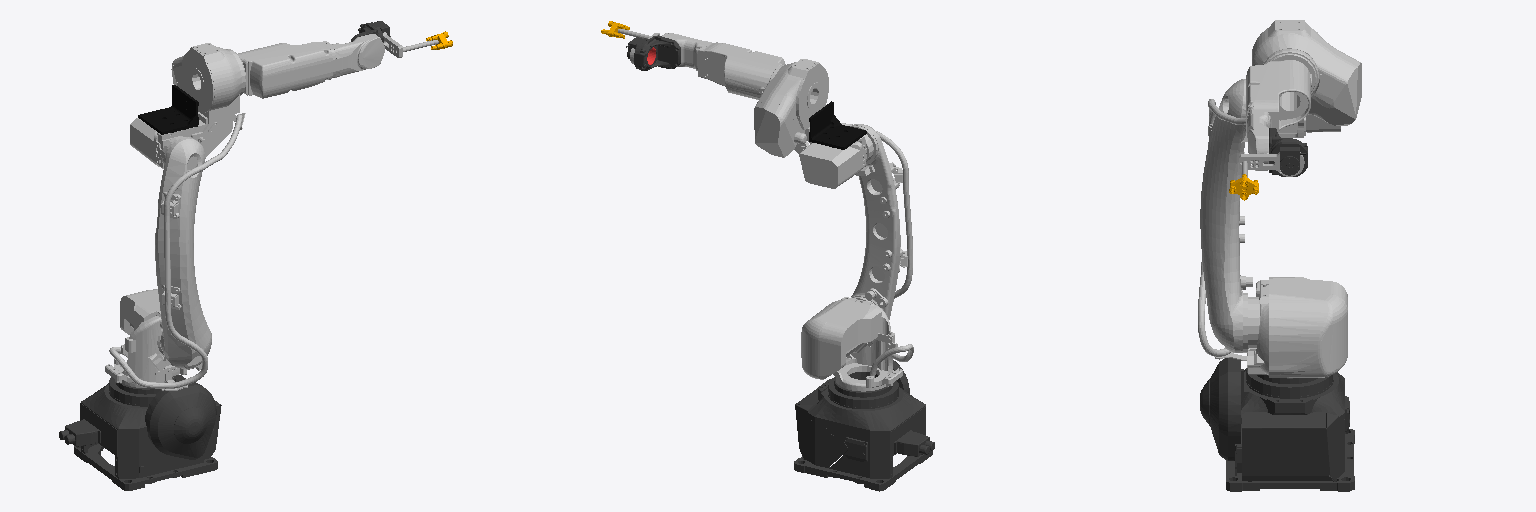
robot.urdf — fanuc_m16ib20:
<?xml version="1.0" ?>
<!-- =================================================================================== -->
<!-- |    This document was autogenerated by xacro from fanuc_robot.xacro              | -->
<!-- |    EDITING THIS FILE BY HAND IS NOT RECOMMENDED                                 | -->
<!-- =================================================================================== -->
<robot name="fanuc_m16ib20">
  <!-- Link Definitions -->
  <link name="world"/>
  <link name="base"/>
  <link name="base_link">
    <inertial>
        <origin
          xyz="0.0168771383054672 0.169315739028866 0.0412800634081652"
          rpy="0 0 0" />
        <mass
          value="15.2527879055871" />
        <inertia
          ixx="0.240635267432976"
          ixy="0.0100242488168428"
          ixz="-0.0305033975601131"
          iyy="0.271707940140716"
          iyz="-0.00725830289125767"
          izz="0.210184758127924" />
      </inertial>
    <visual>
      <origin rpy="0 0 0" xyz="0 0 0"/>
      <geometry>
        <mesh filename="visual/base_link.stl"/>
      </geometry>
      <material name="">
        <color rgba="0.3 0.3 0.3 1.0"/>
      </material>
    </visual>
    <collision>
      <origin rpy="0 0 0" xyz="0 0 0"/>
      <geometry>
        <mesh filename="collision/base_link.stl"/>
      </geometry>
    </collision>
  </link>
  <link name="link_1">
    <inertial>
      <origin rpy="0 0 0" xyz="0.0726897307131149 0.01726181100338 0.146189542933749"/>
      <mass value="8.58482432876493"/>
      <inertia ixx="0.0773051230689542" ixy="-0.00723379157253982" ixz="-0.000989343165238307" iyy="0.0723962945181877" iyz="-0.00461031639489372" izz="0.0825875841593164"/>
    </inertial>
    <visual>
      <origin rpy="0 0 0" xyz="0 0 0"/>
      <geometry>
        <mesh filename="visual/link_1.stl"/>
      </geometry>
      <material name="">
        <color rgba="0.8 0.8 0.8 1.0"/>
      </material>
    </visual>
    <collision>
      <origin rpy="0 0 0" xyz="0 0 0"/>
      <geometry>
        <mesh filename="collision/link_1.stl"/>
      </geometry>
    </collision>
  </link>
  <link name="link_2">
    <inertial>
      <origin rpy="0 0 0" xyz="-0.0302703665097071 -0.0903873349659628 0.28992958820209"/>
      <mass value="8.2150449017131"/>
      <inertia ixx="0.453073068816237" ixy="-0.00379770698429958" ixz="0.0071807966172984" iyy="0.457047499741872" iyz="-0.00913275289112151" izz="0.0235672287466738"/>
    </inertial>
    <visual>
      <origin rpy="0 0 0" xyz="0 0 0"/>
      <geometry>
        <mesh filename="visual/link_2.stl"/>
      </geometry>
      <material name="">
        <color rgba="0.8 0.8 0.8 1.0"/>
      </material>
    </visual>
    <collision>
      <origin rpy="0 0 0" xyz="0 0 0"/>
      <geometry>
        <mesh filename="collision/link_2.stl"/>
      </geometry>
    </collision>
  </link>
  <link name="link_3">
    <inertial>
      <origin rpy="0 0 0" xyz="0.12723749942066 0.100227995458356 0.109934685293926"/>
      <mass value="9.67618904299885"/>
      <inertia ixx="0.136062842569301" ixy="-0.00510277484528786" ixz="-0.0547361392761174" iyy="0.154610667545871" iyz="0.00260387431850614" izz="0.118176278176851"/>
    </inertial>
    <visual>
      <origin rpy="0 0 0" xyz="0 0 0"/>
      <geometry>
        <mesh filename="visual/link_3.stl"/>
      </geometry>
      <material name="">
        <color rgba="0.8 0.8 0.8 1.0"/>
      </material>
    </visual>
    <collision>
      <origin rpy="0 0 0" xyz="0 0 0"/>
      <geometry>
        <mesh filename="collision/link_3.stl"/>
      </geometry>
    </collision>
  </link>
  <link name="pneumatics">
    <inertial>
      <origin rpy="0 0 0" xyz="0.00110933006746268 -0.0182404642175578 0.0204308326542739"/>
      <mass value="0.303487141008849"/>
      <inertia ixx="0.000727934906520687" ixy="4.58702687909596E-07" ixz="-1.0856626128454E-05" iyy="0.00115096933775526" iyz="0.000166632900798468" izz="0.000754234128728351"/>
    </inertial>
    <visual>
      <origin rpy="0 0 0" xyz="0 0 0"/>
      <geometry>
        <mesh filename="visual/pneumatics.stl"/>
      </geometry>
      <material name="">
        <color rgba="0.10196 0.10196 0.10196 1"/>
      </material>
    </visual>
    <collision>
      <origin rpy="0 0 0" xyz="0 0 0"/>
      <geometry>
        <mesh filename="collision/pneumatics.stl"/>
      </geometry>
    </collision>
  </link>
  <link name="link_4">
    <inertial>
      <origin rpy="0 0 0" xyz="0.188625513593263 -0.0559577978885521 -0.00114940913552486"/>
      <mass value="4.60474836910352"/>
      <inertia ixx="0.0125033244602369" ixy="0.0101346194425775" ixz="-0.000488864344204214" iyy="0.0796306838019067" iyz="-3.96339927860412E-05" izz="0.0823799764969524"/>
    </inertial>
    <visual>
      <origin rpy="0 0 0" xyz="0 0 0"/>
      <geometry>
        <mesh filename="visual/link_4.stl"/>
      </geometry>
      <material name="">
        <color rgba="0.8 0.8 0.8 1.0"/>
      </material>
    </visual>
    <collision>
      <origin rpy="0 0 0" xyz="0 0 0"/>
      <geometry>
        <mesh filename="collision/link_4.stl"/>
      </geometry>
    </collision>
  </link>
  <link name="link_5">
    <inertial>
      <origin rpy="0 0 0" xyz="0.024900358966052 -0.0224006698492462 7.37344001411344E-08"/>
      <mass value="0.367816174627401"/>
      <inertia ixx="0.000671984183699895" ixy="-0.000199206306194321" ixz="1.12002081623748E-09" iyy="0.000692587871424379" iyz="3.53309816391218E-10" izz="0.000710717591297149"/>
    </inertial>
    <visual>
      <origin rpy="0 0 0" xyz="0 0 0"/>
      <geometry>
        <mesh filename="visual/link_5.stl"/>
      </geometry>
      <material name="">
        <color rgba="0.3 0.3 0.3 1.0"/>
      </material>
    </visual>
    <collision>
      <origin rpy="0 0 0" xyz="0 0 0"/>
      <geometry>
        <mesh filename="collision/link_5.stl"/>
      </geometry>
    </collision>
  </link>
  <link name="link_6">
    <inertial>
      <origin rpy="0 0 0" xyz="0.0302639071241406 -3.46944695195361E-17 -2.22044604925031E-16"/>
      <mass value="0.0344052830581641"/>
      <inertia ixx="3.4435938758267E-05" ixy="-2.54557813387769E-20" ixz="4.98349196091915E-21" iyy="2.11531436012608E-05" iyz="4.55280209149186E-21" izz="2.1317868300063E-05"/>
    </inertial>
    <visual>
      <origin rpy="0 0 0" xyz="0 0 0"/>
      <geometry>
        <mesh filename="visual/link_6.stl"/>
      </geometry>
      <material name="">
        <color rgba="1 0.3 0.3 1.0"/>
      </material>
    </visual>
    <collision>
      <origin rpy="0 0 0" xyz="0 0 0"/>
      <geometry>
        <mesh filename="collision/link_6.stl"/>
      </geometry>
    </collision>
  </link>
  <link name="flange"/>


  <link name="force_sensor">
    <visual>
      <origin rpy="0 0 0" xyz="0 0 0"/>
      <geometry>
        <mesh filename="visual/fs_leptrino.stl"/>
      </geometry>
      <material name="">
        <color rgba="0.3 0.3 0.3 1.0"/>
      </material>
    </visual>
    <collision>
      <origin rpy="0 0 0" xyz="0 0 0"/>
      <geometry>
        <mesh filename="collision/fs_leptrino.stl"/>
      </geometry>
    </collision>
  </link>

  <link name="tool"/>

<link name="rod_mount">
      <visual>
        <origin xyz="0 0 0" rpy="0 0 0"/>
        <geometry>
          <mesh filename="visual/rod_mount.stl"/>
        </geometry>
        <material name="">
          <color rgba="0.75 0.75 0.75 1.0" />
        </material>
      </visual>
      <collision>
        <origin xyz="0 0 0" rpy="0 0 0"/>
        <geometry>
          <mesh filename="collision/rod_mount.stl"/>
        </geometry>
      </collision>
    </link>
    <link name="rod">
      <visual>
        <origin xyz="0 0 0" rpy="0 0 0"/>
        <geometry>
          <mesh filename="visual/rod_l150.stl"/>
        </geometry>
        <material name="">
          <color rgba="0.75 0.75 0.75 1.0" />
        </material>
      </visual>
      <collision>
        <origin xyz="0 0 0" rpy="0 0 0"/>
        <geometry>
          <mesh filename="collision/rod_l150.stl"/>
        </geometry>
      </collision>
    </link>
    <link name="pad_mount">
      <visual>
        <origin xyz="0 0 0" rpy="0 0 0"/>
        <geometry>
          <mesh filename="visual/4pads_mount_150mm.stl"/>
        </geometry>
        <material name="">
          <color rgba="1 0.7 0 1.0" />
        </material>
      </visual>
      <collision>
        <origin xyz="0 0 0" rpy="0 0 0"/>
        <geometry>
          <mesh filename="collision/4pads_mount_150mm.stl"/>
        </geometry>
      </collision>
    </link>


  <!-- Joint Definitions -->
  <joint name="world-base_link" type="fixed">
    <origin rpy="0 0 0" xyz="0.000 0.000 -0.450"/>
    <parent link="world"/>
    <child link="base_link"/>
  </joint>
  <joint name="base_link-base" type="fixed">
    <origin rpy="0 0 0" xyz="0.000 0.000 0.450"/>
    <parent link="base_link"/>
    <child link="base"/>
  </joint>
  <joint name="joint_1" type="revolute">
    <origin rpy="0 0 0" xyz="0 0 0.2865"/>
    <parent link="base_link"/>
    <child link="link_1"/>
    <axis xyz="0 0 1"/>
    <limit effort="0" lower="-2.0943951023931953" upper="2.0943951023931953" velocity="4.54"/>
  </joint>
  <joint name="joint_2" type="revolute">
    <origin rpy="0 0 0" xyz="0.075 -0.065 0.1635"/>
    <parent link="link_1"/>
    <child link="link_2"/>
    <axis xyz="0 1 0"/>
    <limit effort="0" lower="-1.2566370614359172" upper="2.0943951023931953" velocity="4.19"/>
  </joint>
  <joint name="joint_3" type="revolute">
    <origin rpy="0 0 0" xyz="0 0 0.64"/>
    <parent link="link_2"/>
    <child link="link_3"/>
    <axis xyz="0 -1 0"/>
    <limit effort="0" lower="-1.5707963267948966" upper="1.5707963267948966" velocity="4.54"/>
  </joint>
  <joint name="joint_3-pneumatics" type="fixed">
    <origin rpy="-1.5708 0 -1.5708" xyz="0.0155 0.0775 0.072"/>
    <parent link="link_3"/>
    <child link="pneumatics"/>
    <axis xyz="0 0 0"/>
  </joint>
  <joint name="joint_4" type="revolute">
    <origin rpy="0 0 0" xyz="0.2555 0.065 0.195"/>
    <parent link="link_3"/>
    <child link="link_4"/>
    <axis xyz="-1 0 0"/>
    <limit effort="0" lower="-2.0943951023931953" upper="2.0943951023931953" velocity="7.50"/>
  </joint>
  <joint name="joint_5" type="revolute">
    <origin rpy="0 0 0" xyz="0.4445 0 0"/>
    <parent link="link_4"/>
    <child link="link_5"/>
    <axis xyz="0 -1 0"/>
    <limit effort="0" lower="-1.8849555921538759" upper="1.8849555921538759" velocity="7.85"/>
  </joint>
  <joint name="joint_6" type="revolute">
    <origin rpy="0 0 0" xyz="0.03 0 0"/>
    <parent link="link_5"/>
    <child link="link_6"/>
    <axis xyz="-1 0 0"/>
    <limit effort="0" lower="-1.0471975511965976" upper="4.1887902047863905" velocity="12.57"/>
  </joint>
  <joint name="joint_6-flange" type="fixed">
    <origin rpy="0 0 0" xyz="0.045 0 0"/>
    <parent link="link_6"/>
    <child link="flange"/>
  </joint>



  <joint name="force_sensor" type="fixed">
    <origin rpy="0 0 0" xyz="0 0 0"/>
    <parent link="flange"/>
    <child link="force_sensor"/>
  </joint>

        <joint name="flange-tool" type="fixed">
        <origin xyz="0 0 0" rpy="-1.57 0 -1.57" />
        <parent link="flange" />
        <child link="tool" />
    </joint>


    <joint name="gripper1" type="fixed">
      <origin xyz="0 0 0" rpy="0 0 0" />
      <parent link="tool" />
      <child link="rod_mount" />
    </joint>
    <joint name="gripper2" type="fixed">
      <origin xyz="0 0 0" rpy="0 0 0" />
      <parent link="tool" />
      <child link="rod" />
    </joint>
    <joint name="gripper3" type="fixed">
      <origin xyz="0 0 0" rpy="0 0 0" />
      <parent link="tool" />
      <child link="pad_mount" />
    </joint>

</robot>

--- What the picture shows (computed from the rendered views, not written in the file) ---
The picture shows the robot from 3 angles, left to right: view 1: azimuth 30°, elevation 25°; view 2: azimuth 150°, elevation 25°; view 3: azimuth 270°, elevation 25°; orthographic projection.
Robot: fanuc_m16ib20 — 16 links, 15 joints (6 revolute, 9 fixed); root link world; default pose: all joints at 0.
Visible links, largest first — view 1: base_link, link_2, link_3, link_4, link_1, pneumatics; view 2: base_link, link_3, link_1, link_2, link_4, pneumatics, link_5; view 3: base_link, link_2, link_1, link_3, link_4, rod_mount, link_5, force_sensor.
Link boxes in pixels (x1,y1,x2,y2): base_link: [59, 375, 221, 490]; link_2: [155, 136, 211, 368]; link_3: [130, 43, 245, 171]; link_4: [238, 34, 384, 98]; link_1: [105, 289, 207, 390]; pneumatics: [138, 85, 198, 134]; base_link: [794, 360, 934, 491]; link_3: [754, 59, 866, 188]; link_1: [801, 297, 913, 391]; link_2: [850, 124, 912, 319]; link_4: [662, 33, 785, 99]; pneumatics: [809, 101, 866, 149]; link_5: [634, 35, 680, 70]; base_link: [1200, 358, 1354, 491]; link_2: [1198, 79, 1259, 352]; link_1: [1198, 277, 1347, 377]; link_3: [1208, 20, 1361, 137]; link_4: [1246, 60, 1311, 170]; rod_mount: [1239, 152, 1304, 176]; link_5: [1269, 128, 1307, 176]; force_sensor: [1280, 147, 1305, 175].
Size in the robot's own frame: 1.33 by 0.4388 by 1.39 metres.
12 mesh visuals loaded from 12 distinct referenced files (12 binary STL).